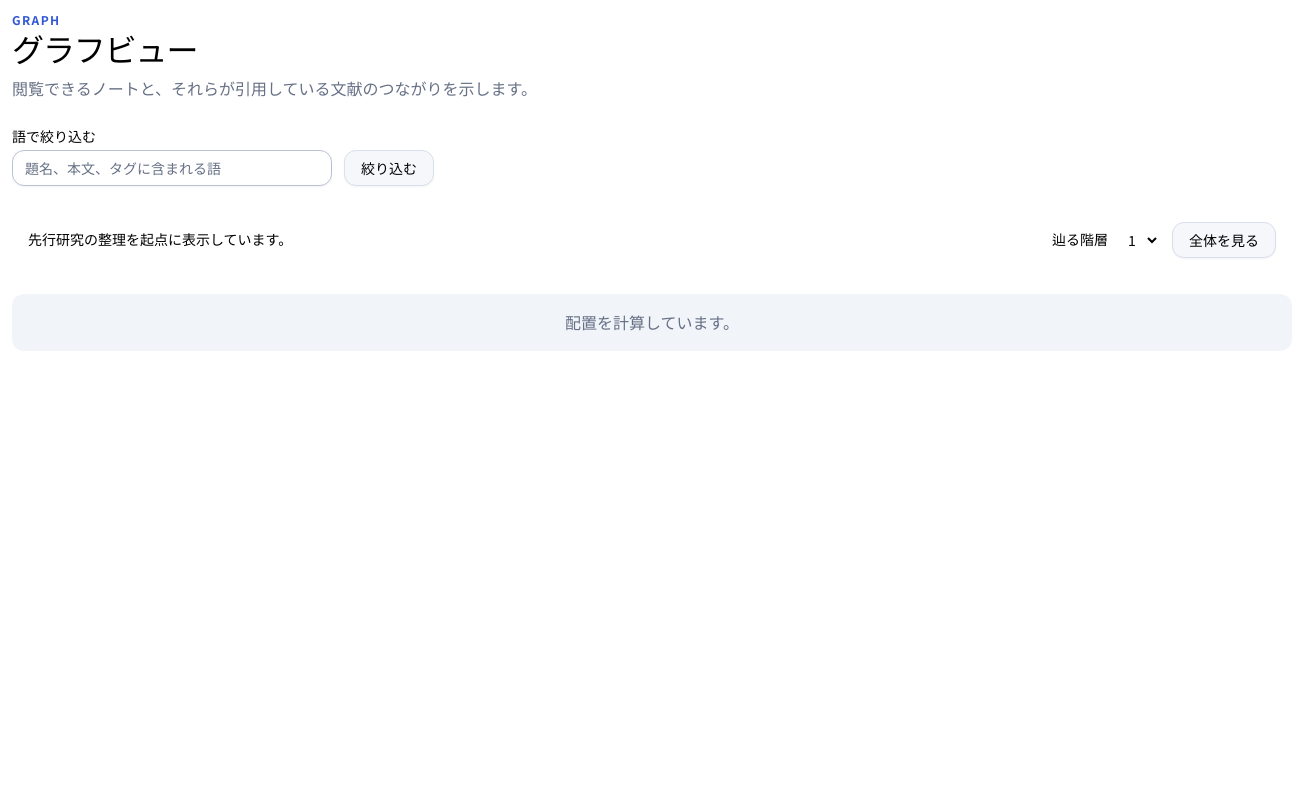
Test: 階層を選び直すと読み直し、全体へ戻せる
Select "4" in the dropdown labelled "辿る階層" at (1138,240), box [1116,222,1160,258]
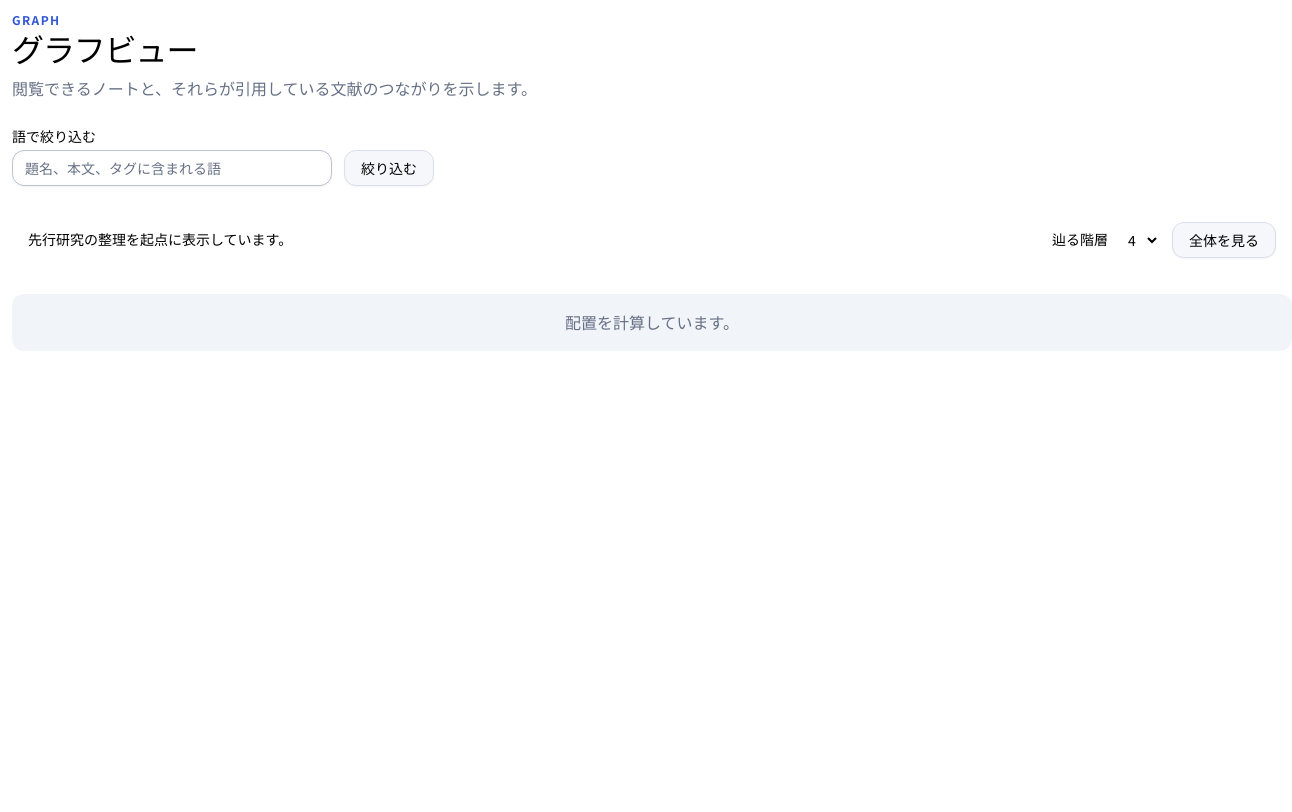
Click the button "全体を見る".
click(1224, 240)  # box [1172,222,1276,258]
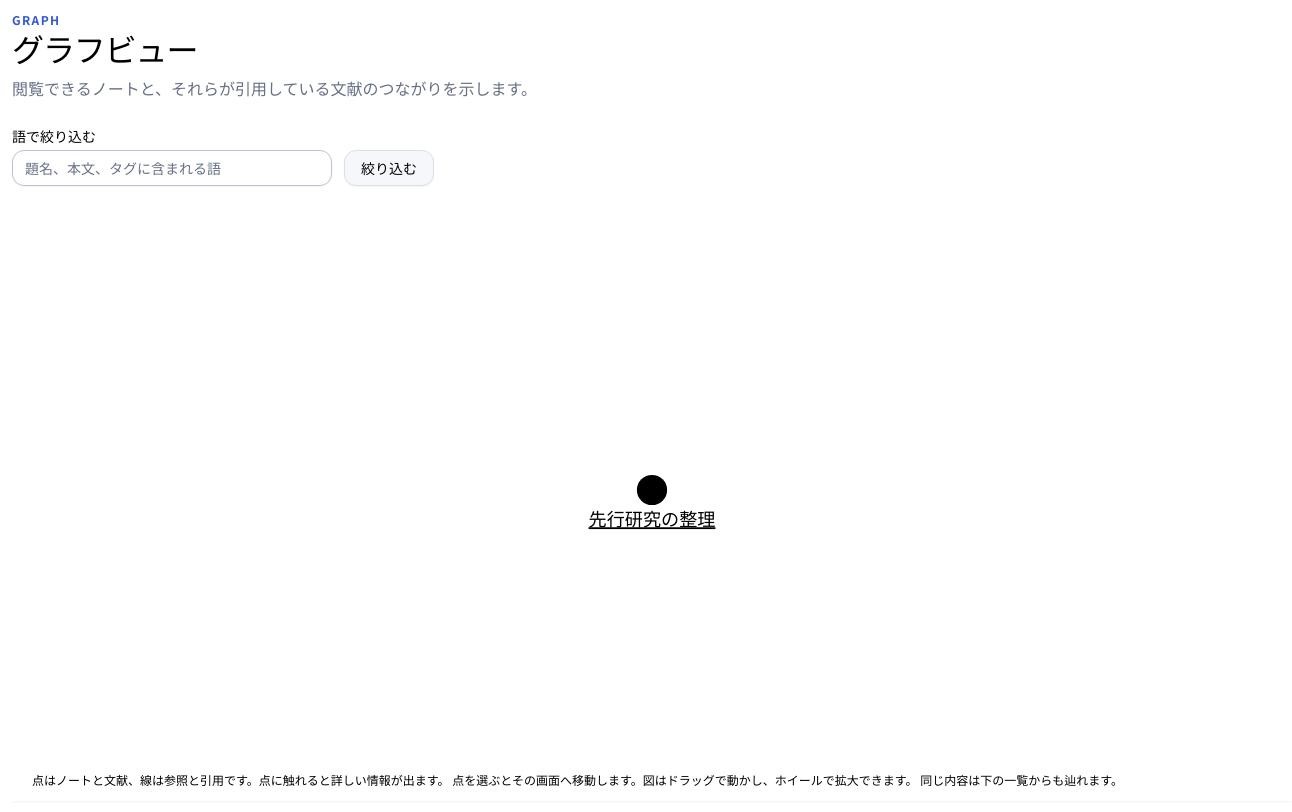
Now the text "辿る階層" is gone
